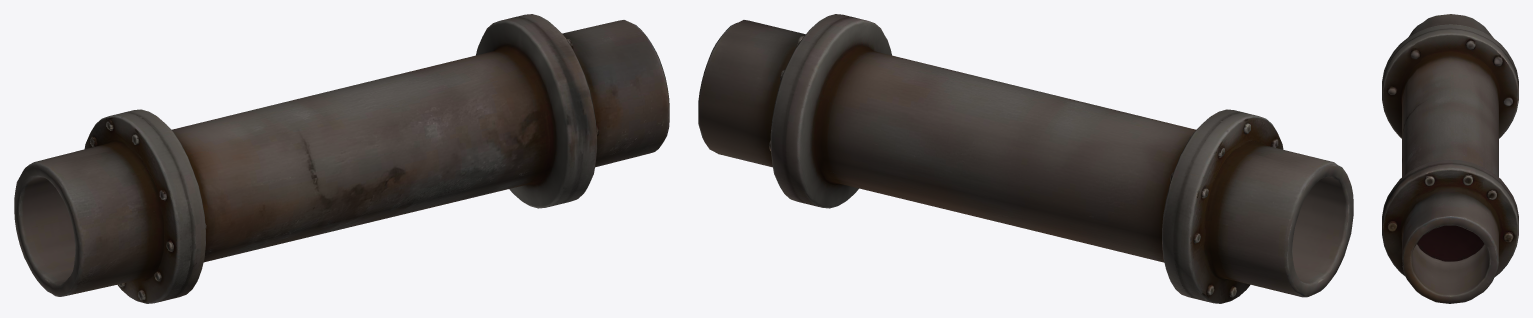
File: selected.glb
The picture shows the model from 3 angles, left to right: view 1: azimuth 30°, elevation 25°; view 2: azimuth 150°, elevation 25°; view 3: azimuth 270°, elevation 25°; orthographic projection. The views are drawn at different scales.
Visible parts, largest first — view 1: tripo_node_e2e8bad2-4c7f-4037-8a26-0b9aa42aca4d; view 2: tripo_node_e2e8bad2-4c7f-4037-8a26-0b9aa42aca4d; view 3: tripo_node_e2e8bad2-4c7f-4037-8a26-0b9aa42aca4d.
Part boxes in pixels (left/top/right/bottom): tripo_node_e2e8bad2-4c7f-4037-8a26-0b9aa42aca4d: left=14, top=14, right=669, bottom=303; tripo_node_e2e8bad2-4c7f-4037-8a26-0b9aa42aca4d: left=698, top=14, right=1353, bottom=303; tripo_node_e2e8bad2-4c7f-4037-8a26-0b9aa42aca4d: left=1382, top=14, right=1518, bottom=303.
Bounding box in the file's own units: 0.998 × 0.2832 × 0.2832.
1 material, 1 textured.
